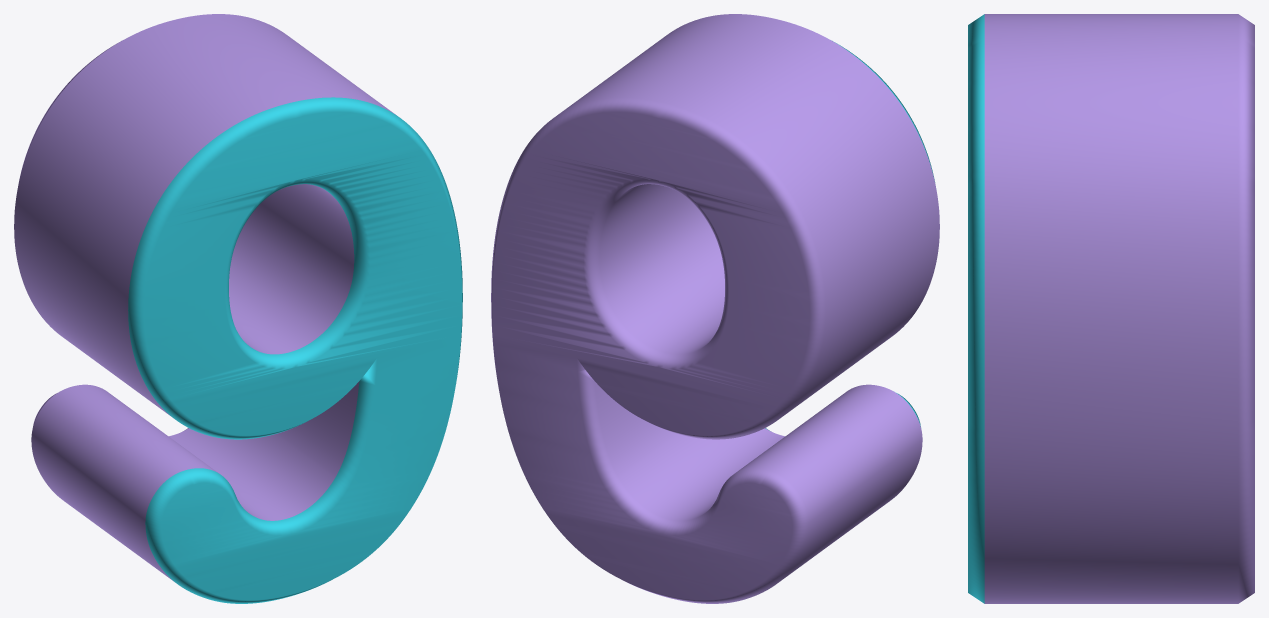
The picture shows the model from 3 angles, left to right: view 1: azimuth 30°, elevation 25°; view 2: azimuth 150°, elevation 25°; view 3: azimuth 270°, elevation 25°; orthographic projection. The views are drawn at different scales.
Visible parts, largest first — view 1: Sembilan 3D; view 2: Sembilan 3D; view 3: Sembilan 3D.
Part boxes in pixels (bbox=[...]): Sembilan 3D: bbox=[14, 14, 462, 603]; Sembilan 3D: bbox=[491, 14, 939, 603]; Sembilan 3D: bbox=[968, 14, 1254, 603].
Size of the model in its own units: 116 by 164 by 77.6.
